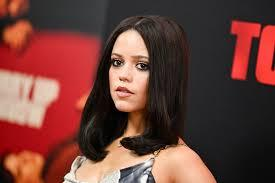person: (95, 7, 190, 121)
